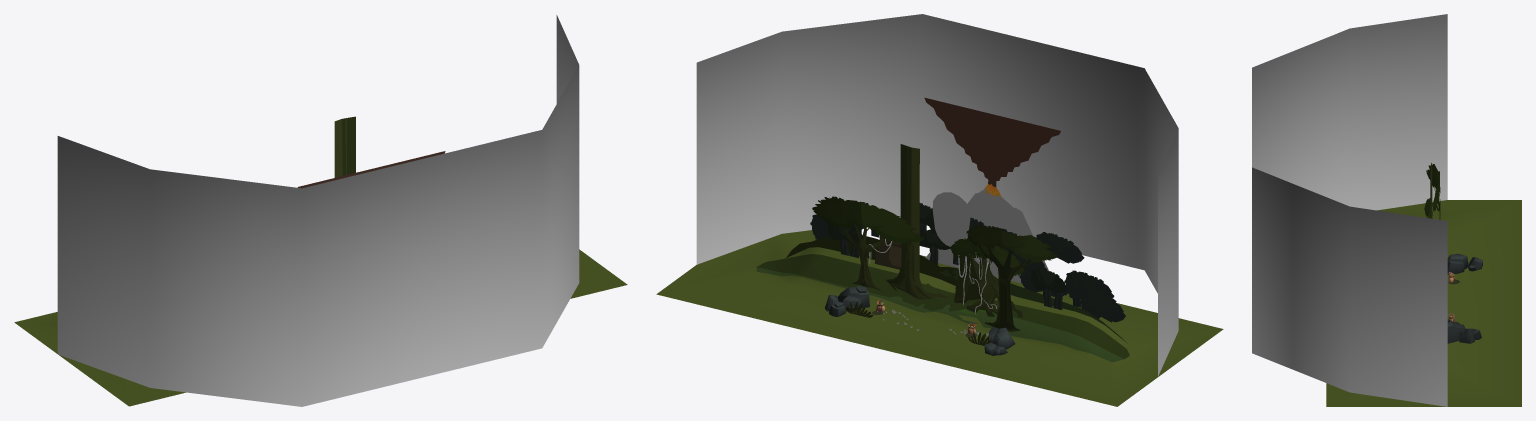
The model's file is Falling_Phantoms.fbx.
3 views of the same model, side by side, from view 1: azimuth 30°, elevation 25°; view 2: azimuth 150°, elevation 25°; view 3: azimuth 270°, elevation 25° (orthographic). The views are drawn at different scales.
Parts seen in each view (by area): view 1: SkyBox, Ground, ForeGroundTrees; view 2: SkyBox, Ground, ForeGroundTrees, BackGroundTrees, VolcanoSmoke, Volcano, Volcano_Glow, Rocks, Buildings, Vines, Volcano_02; view 3: SkyBox, Ground, Rocks, ForeGroundTrees.
Part boxes in pixels (left/top/right/bottom): SkyBox: left=57, top=15, right=579, bottom=406; Ground: left=14, top=249, right=627, bottom=406; ForeGroundTrees: left=334, top=116, right=355, bottom=177; SkyBox: left=696, top=14, right=1178, bottom=376; Ground: left=656, top=230, right=1223, bottom=406; ForeGroundTrees: left=812, top=144, right=1057, bottom=331; BackGroundTrees: left=810, top=200, right=1125, bottom=322; VolcanoSmoke: left=924, top=97, right=1060, bottom=187; Volcano: left=925, top=188, right=1048, bottom=277; Volcano_Glow: left=932, top=192, right=970, bottom=246; Rocks: left=825, top=286, right=1015, bottom=355; Buildings: left=874, top=235, right=998, bottom=288; Vines: left=869, top=239, right=996, bottom=313; Volcano_02: left=943, top=190, right=1021, bottom=283; SkyBox: left=1252, top=14, right=1447, bottom=406; Ground: left=1326, top=200, right=1521, bottom=406; Rocks: left=1447, top=253, right=1483, bottom=343; ForeGroundTrees: left=1424, top=162, right=1440, bottom=219.
Bounding box in the file's own units: 65.96 × 27.69 × 36.34.
